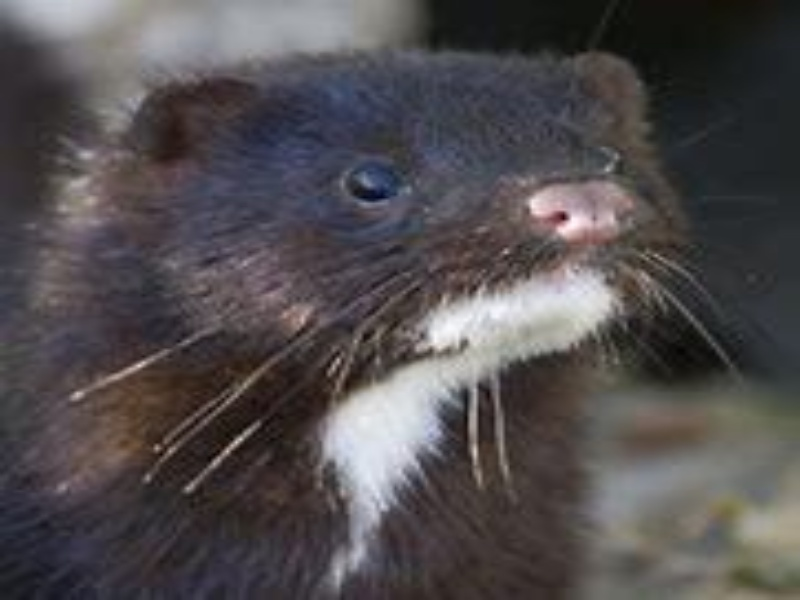minkish: (1, 46, 680, 585)
